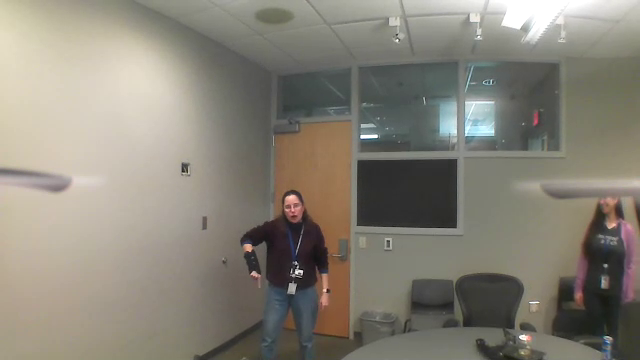down: (245, 268, 266, 291)
